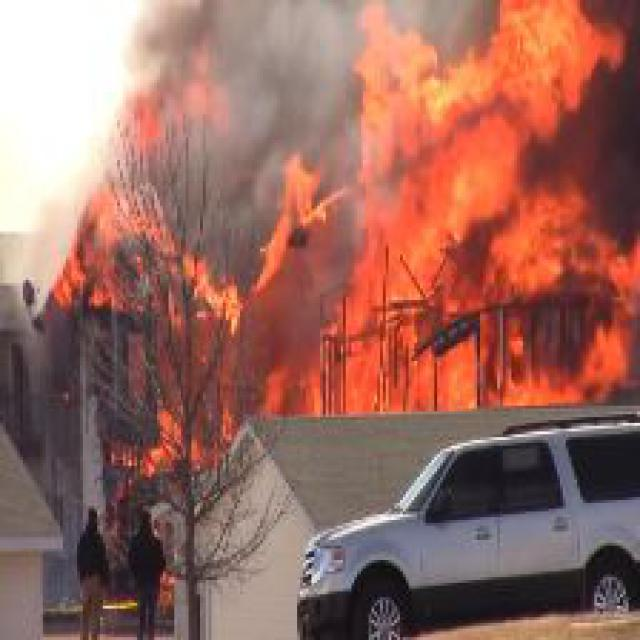fire: (257, 9, 629, 417), (51, 117, 326, 480)
